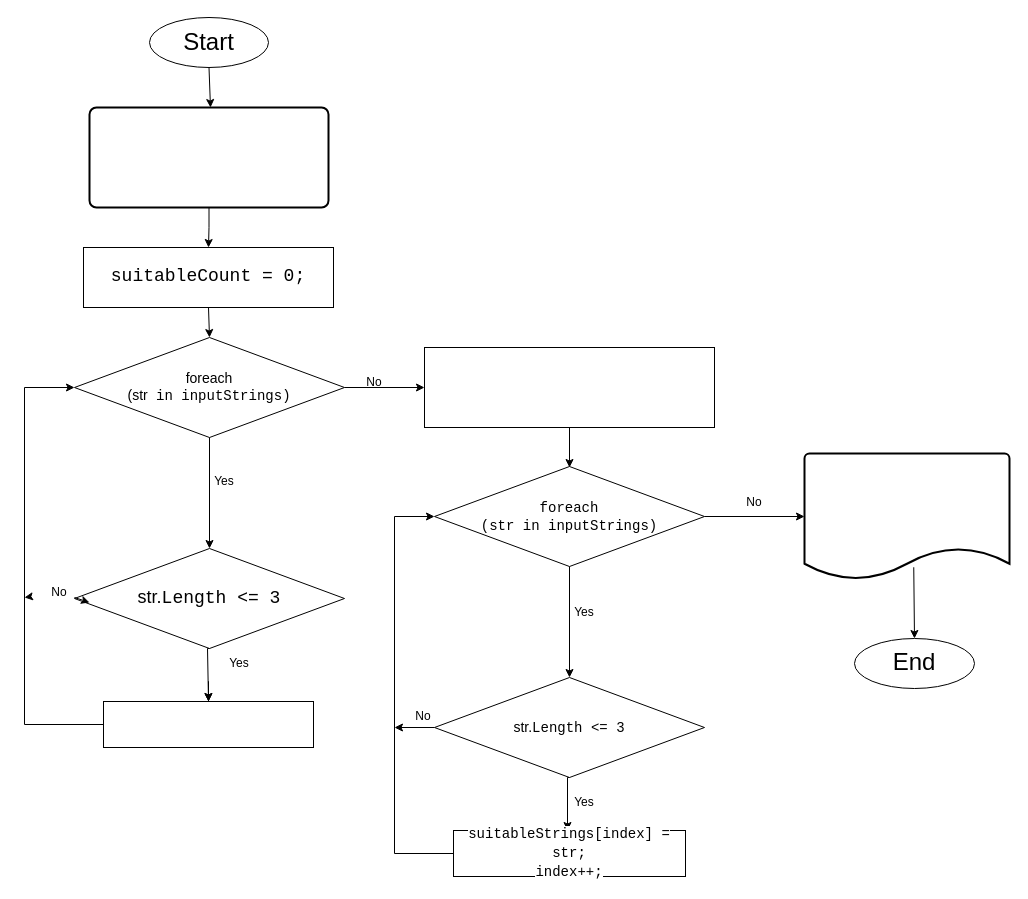
The diagram is 1028 pixels wide and 899 high, and some of its shapes have lost their labels. Each missing label, with the centre of its shape:
inputStrings[] suitableStrings[]: (x=906, y=516)
int arraySize) inputStrings[arraySize ]: (x=208, y=157)
suitableCount++;: (x=208, y=724)
suitableStrings[suitableCount]; index = 0 ;: (x=569, y=387)
